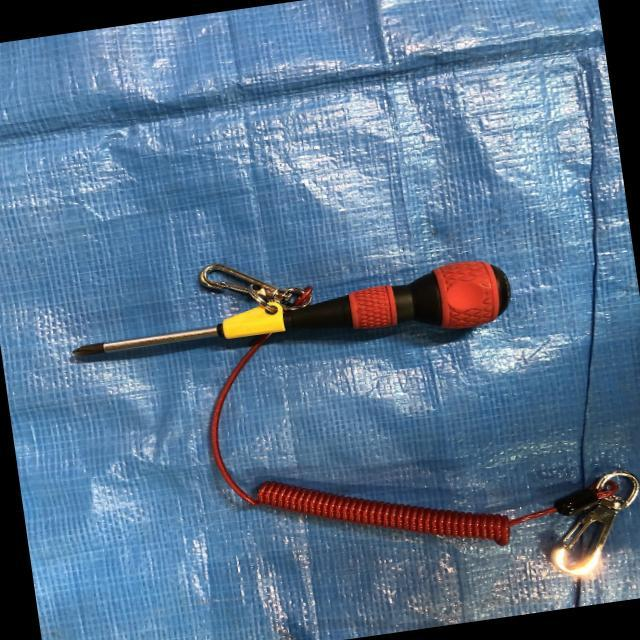screwdriver: (57, 207, 640, 640)
